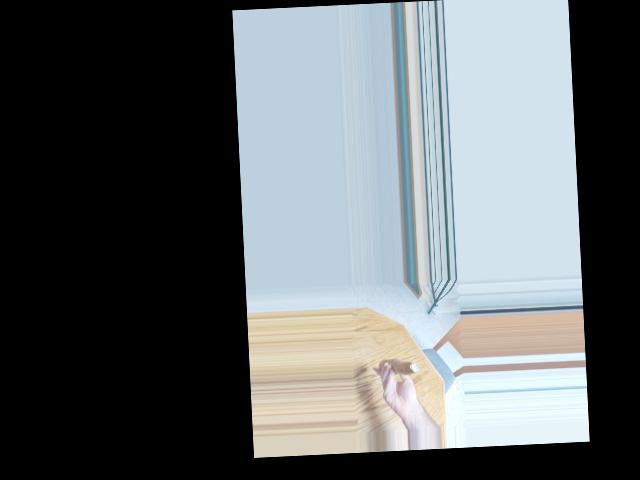sweet_potato: (380, 357, 413, 377)
